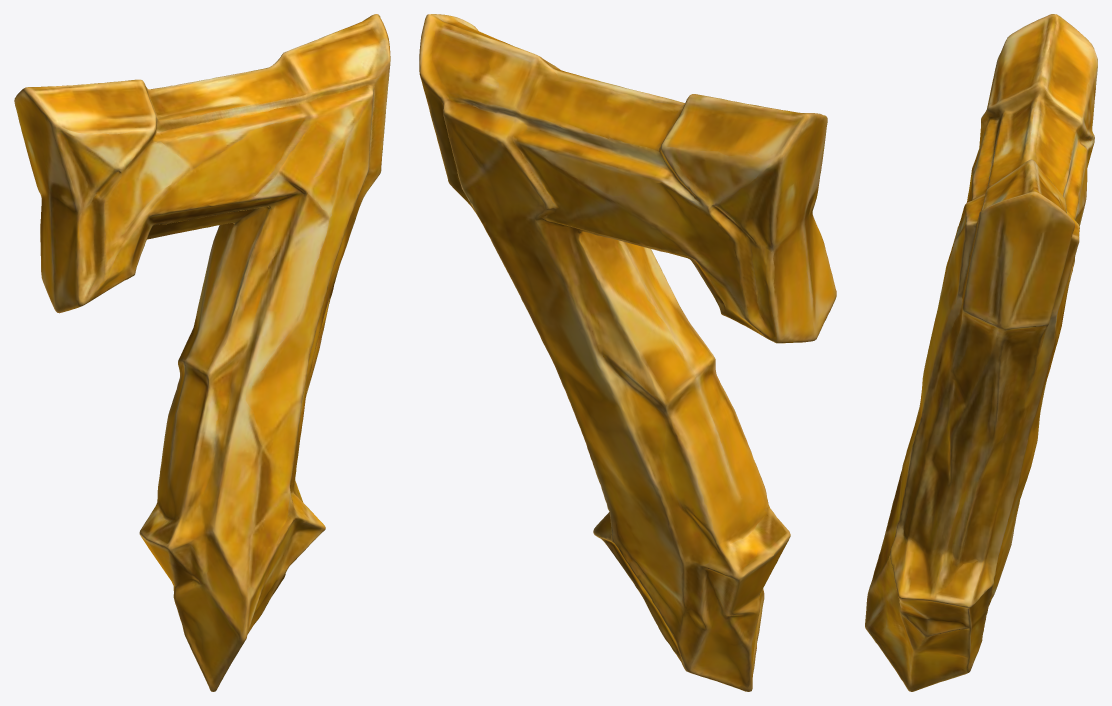
File: lar_lucky7.glb
3 views of the same model, side by side, from view 1: azimuth 30°, elevation 25°; view 2: azimuth 150°, elevation 25°; view 3: azimuth 270°, elevation 25° (orthographic). The views are drawn at different scales.
Bounding box in the file's own units: 0.5613 × 0.9059 × 0.3105.
1 material, 1 textured.
